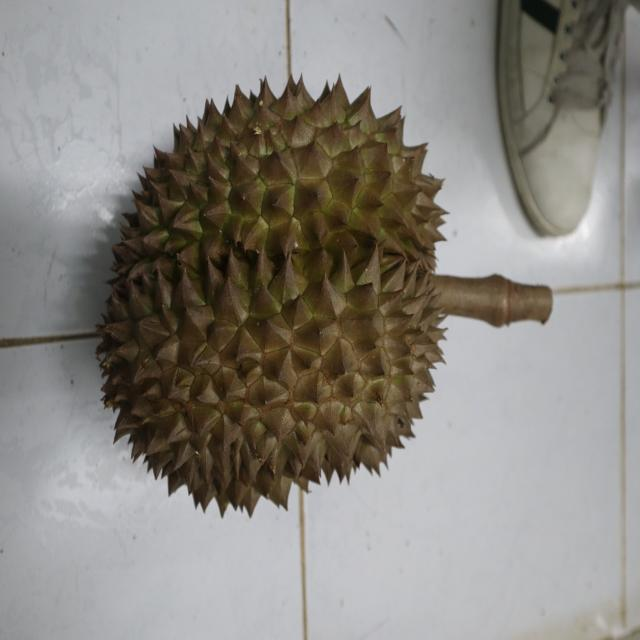mature: (100, 76, 450, 514)
